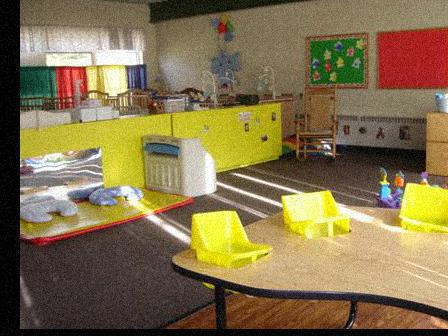Otro Obstaculo: (22, 186, 194, 243), (138, 132, 223, 200)
